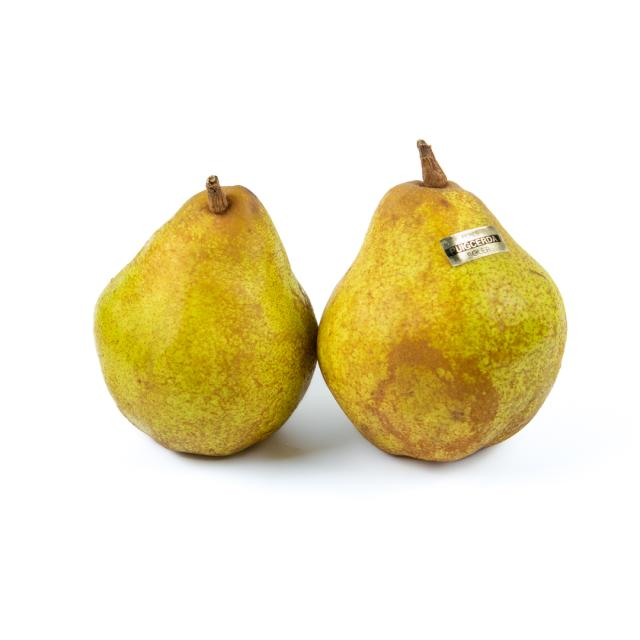pera: (322, 135, 578, 479), (88, 164, 319, 462)
